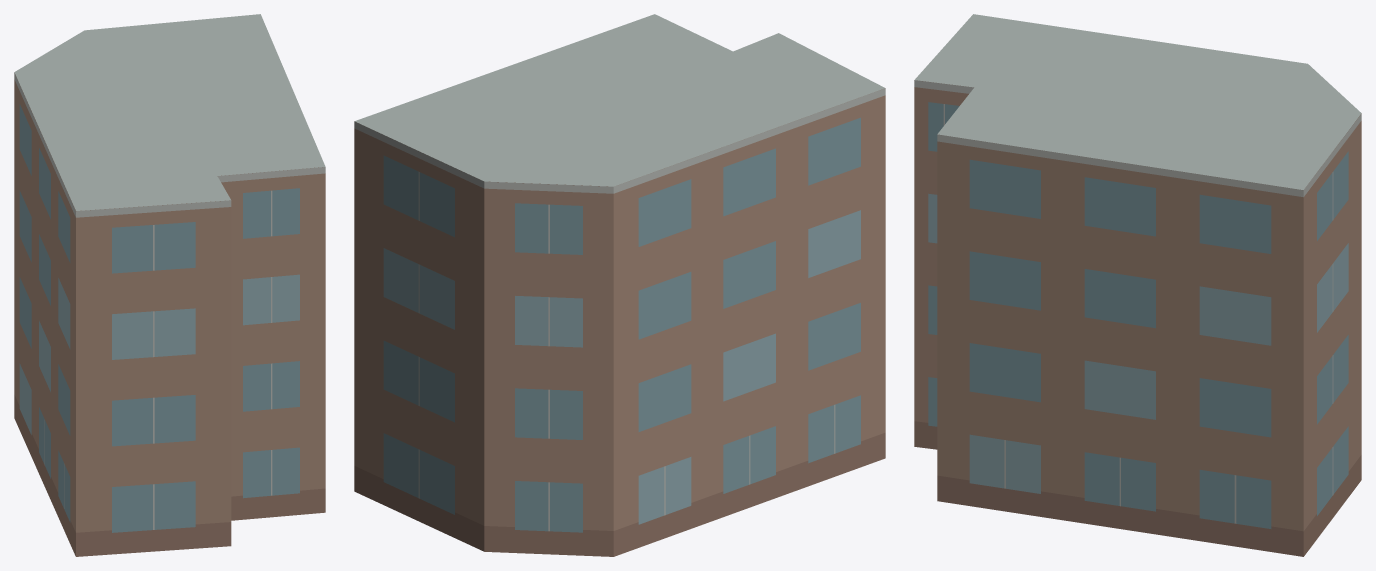
Rendered from survey-upis-32941141.glb.
3 views of the same model, side by side, from view 1: azimuth 30°, elevation 25°; view 2: azimuth 150°, elevation 25°; view 3: azimuth 270°, elevation 25° (orthographic). The views are drawn at different scales.
Visible parts, largest first — view 1: survey-upis-32941141.tmp; view 2: survey-upis-32941141.tmp; view 3: survey-upis-32941141.tmp.
Boxes of the visible parts, <box> form: survey-upis-32941141.tmp: <box>14,14,325,556</box>; survey-upis-32941141.tmp: <box>354,14,885,556</box>; survey-upis-32941141.tmp: <box>914,14,1361,556</box>.
Size of the model in its own units: 13.09 by 12.7 by 14.05.
